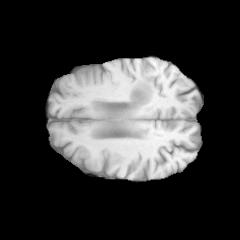glioma: (128, 81, 153, 104)
